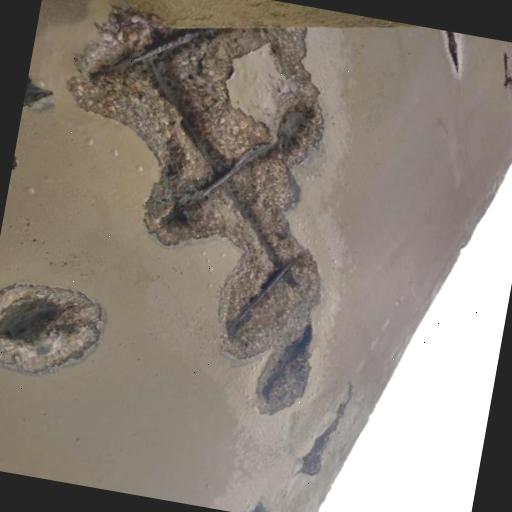spalling: (73, 14, 321, 425), (0, 271, 112, 389)
